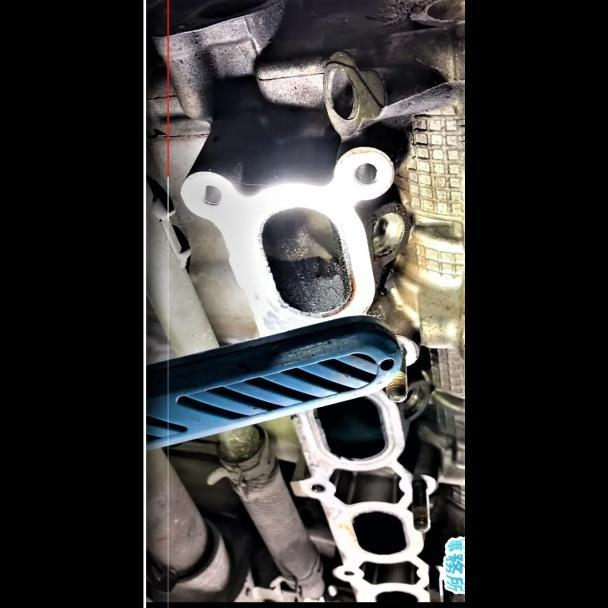hole: (196, 181, 222, 207), (352, 161, 380, 185), (307, 481, 327, 494)
